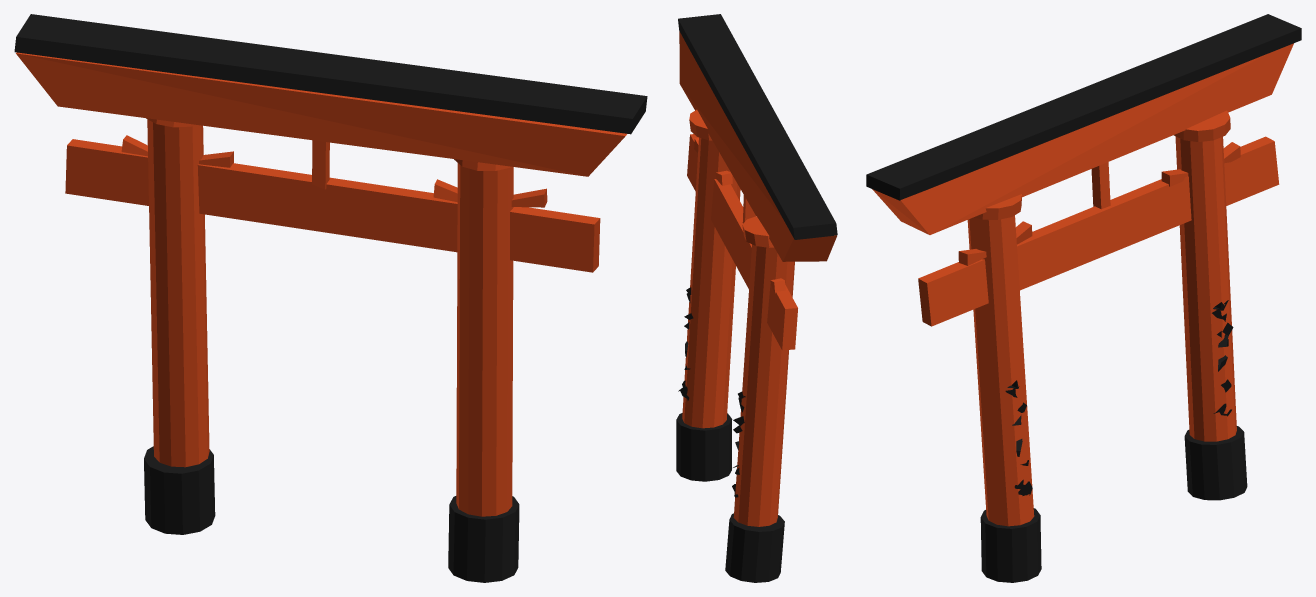
File: torii.glb
3 views of the same model, side by side, from view 1: azimuth 30°, elevation 25°; view 2: azimuth 150°, elevation 25°; view 3: azimuth 270°, elevation 25° (orthographic). The views are drawn at different scales.
Visible parts, largest first — view 1: Node; view 2: Node; view 3: Node.
Part boxes in pixels (x1,y1,x2,y2): Node: (14,14,647,582); Node: (676,14,837,582); Node: (866,14,1301,582).
Bounding box in the file's own units: 0.3428 × 0.3918 × 0.3637.
